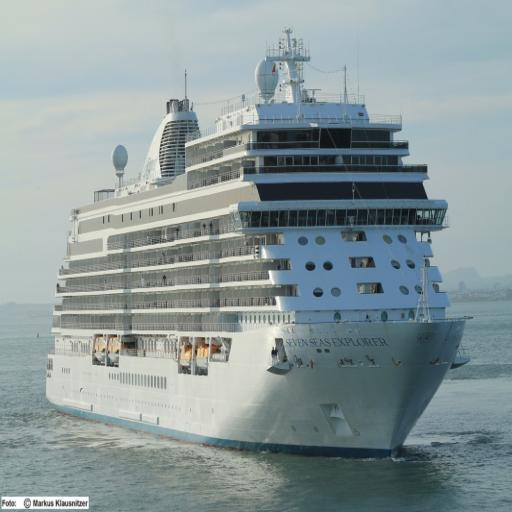cruises: (44, 24, 471, 470)
